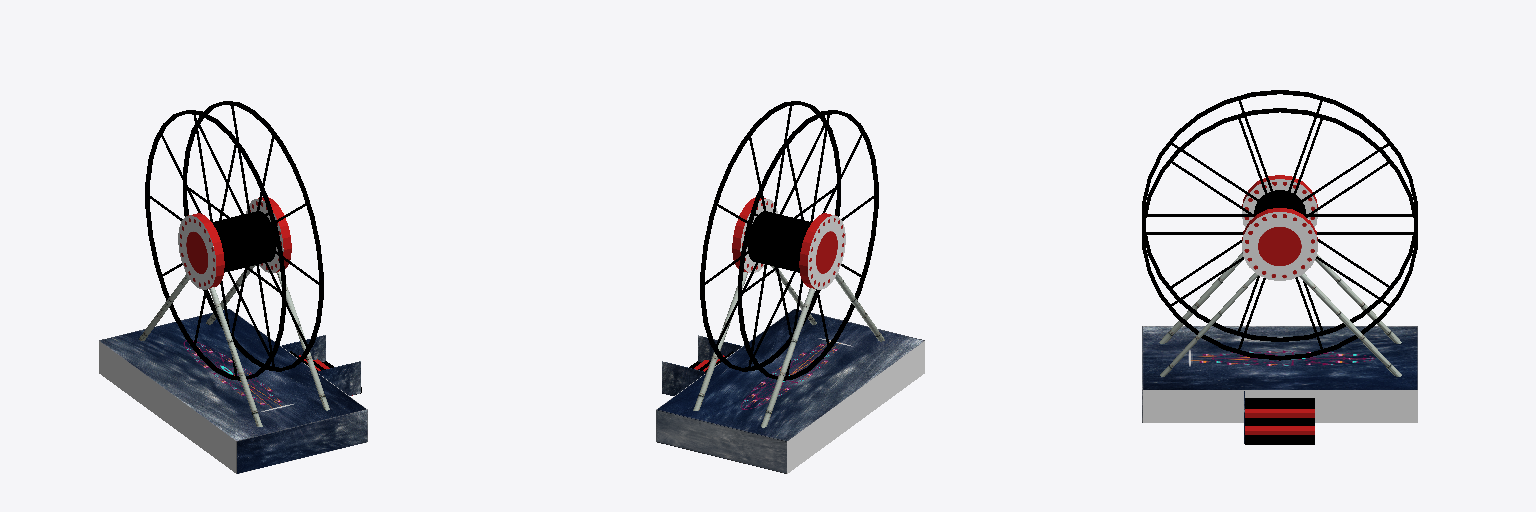
3 views of the same model, side by side, from view 1: azimuth 30°, elevation 25°; view 2: azimuth 150°, elevation 25°; view 3: azimuth 270°, elevation 25° (orthographic).
Parts seen in each view (by area): view 1: pCube1, pasted__pPipe1 group4, pasted__pCylinder2 group2, pasted__pCylinder2 group3, pPipe1, pCylinder2, pasted__pCube2 group17, pasted__pCylinder1 group1, pCylinder1, pCube2; view 2: pCube1, pasted__pPipe1 group4, pasted__pCylinder2 group2, pasted__pCylinder2 group3, pPipe1, pCylinder2, pCube2, group1 pasted__pasted__pCylinder1 pasted__group, pasted__pasted__pasted__group8 pasted__pasted__group9 pasted__gr, pasted__pasted__group8 pasted__group9 group10 pasted__pasted__pa, pasted__pCylinder1 group; view 3: pCube1, pCylinder2, pPipe1, pasted__pPipe1 group4, pasted__pCylinder2 group2, pasted__pCylinder1 group, pasted__pCube1 group12, pasted__pasted__pasted__pasted__pasted__pCube1 pasted__pasted__p, pasted__pasted__pasted__group8 pasted__pasted__group9 pasted__gr, pasted__pCylinder2 group3, pCylinder1, group1 pasted__pasted__pCylinder1 pasted__group (+5 smaller).
Part boxes in pixels (left/top/right/bottom): pCube1: left=99, top=309, right=367, bottom=473; pasted__pPipe1 group4: left=145, top=110, right=285, bottom=380; pasted__pCylinder2 group2: left=178, top=213, right=224, bottom=289; pasted__pCylinder2 group3: left=213, top=211, right=276, bottom=272; pPipe1: left=183, top=101, right=323, bottom=371; pCylinder2: left=246, top=197, right=291, bottom=272; pasted__pCube2 group17: left=317, top=361, right=360, bottom=395; pasted__pCylinder1 group1: left=209, top=287, right=262, bottom=426; pCylinder1: left=277, top=271, right=329, bottom=410; pCube2: left=282, top=335, right=325, bottom=361; pCube1: left=656, top=309, right=924, bottom=473; pasted__pPipe1 group4: left=738, top=110, right=878, bottom=380; pasted__pCylinder2 group2: left=799, top=213, right=845, bottom=289; pasted__pCylinder2 group3: left=747, top=211, right=810, bottom=272; pPipe1: left=700, top=101, right=840, bottom=371; pCylinder2: left=732, top=197, right=777, bottom=272; pCube2: left=662, top=361, right=706, bottom=395; group1 pasted__pasted__pCylinder1 pasted__group: left=761, top=288, right=815, bottom=427; pasted__pasted__pasted__group8 pasted__pasted__group9 pasted__gr: left=716, top=133, right=862, bottom=355; pasted__pasted__group8 pasted__group9 group10 pasted__pasted__pa: left=748, top=115, right=829, bottom=376; pasted__pCylinder1 group: left=693, top=272, right=747, bottom=410; pCube1: left=1142, top=326, right=1417, bottom=422; pCylinder2: left=1242, top=208, right=1317, bottom=280; pPipe1: left=1142, top=108, right=1417, bottom=360; pasted__pPipe1 group4: left=1142, top=90, right=1417, bottom=341; pasted__pCylinder2 group2: left=1242, top=175, right=1317, bottom=227; pasted__pCylinder1 group: left=1299, top=273, right=1401, bottom=376; pasted__pCube1 group12: left=1245, top=398, right=1314, bottom=408; pasted__pasted__pasted__pasted__pasted__pCube1 pasted__pasted__p: left=1245, top=435, right=1314, bottom=444; pasted__pasted__pasted__group8 pasted__pasted__group9 pasted__gr: left=1172, top=143, right=1389, bottom=305; pasted__pCylinder2 group3: left=1254, top=190, right=1305, bottom=215; pCylinder1: left=1160, top=273, right=1258, bottom=376; group1 pasted__pasted__pCylinder1 pasted__group: left=1315, top=254, right=1401, bottom=343.
Bounding box in the file's own units: 6.35 × 10.04 × 8.61.
10 materials, 5 textured.